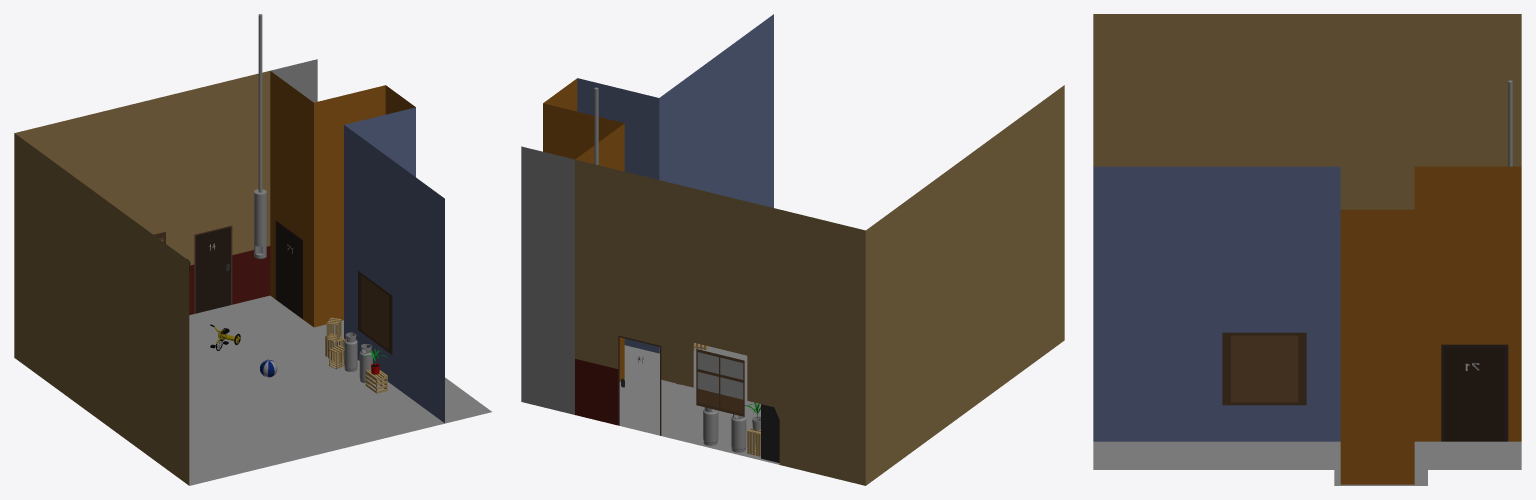
The model's file is Vila17.obj.
3 renders of one model, left to right at view 1: azimuth 30°, elevation 25°; view 2: azimuth 150°, elevation 25°; view 3: azimuth 270°, elevation 25°, orthographic. The views are drawn at different scales.
Visible parts, largest first — view 1: Paredes, Cilindro, Caixote_SMadruga, Gas_S_Madruga; view 2: Paredes, Gas_DFlorinda, Escada; view 3: Paredes.
Part boxes in pixels (<box>): Paredes: <box>14,59,491,485</box>; Cilindro: <box>254,14,266,258</box>; Caixote_SMadruga: <box>325,317,387,393</box>; Gas_S_Madruga: <box>344,332,372,383</box>; Paredes: <box>521,14,1064,485</box>; Gas_DFlorinda: <box>703,407,746,452</box>; Escada: <box>761,404,779,462</box>; Paredes: <box>1093,14,1521,485</box>.
Size of the model in its own units: 17.42 by 14.5 by 16.
